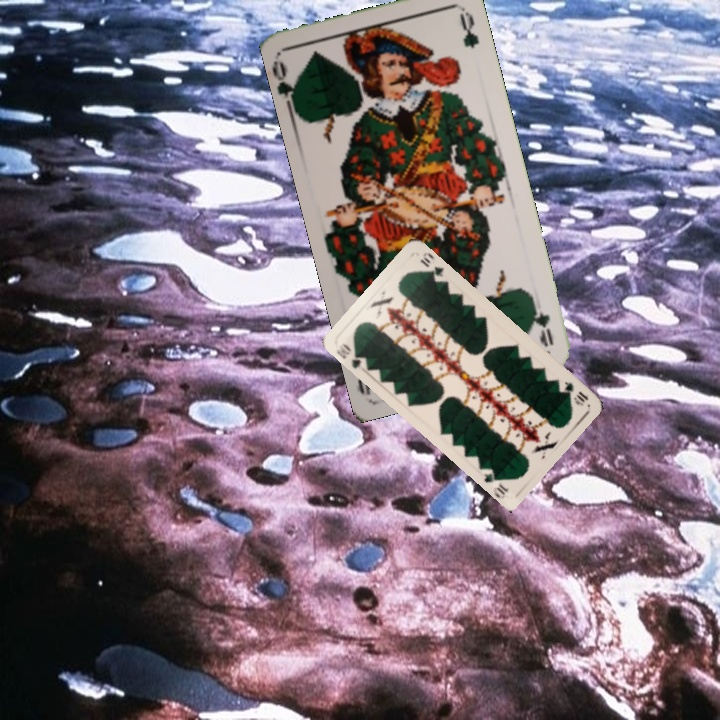G10: (332, 339, 367, 371), (559, 377, 591, 409)
GO: (270, 57, 302, 115), (525, 291, 556, 349)
